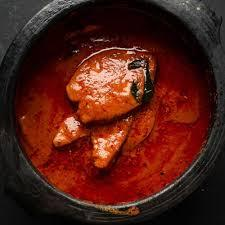Fish Curry: (38, 28, 196, 202)
